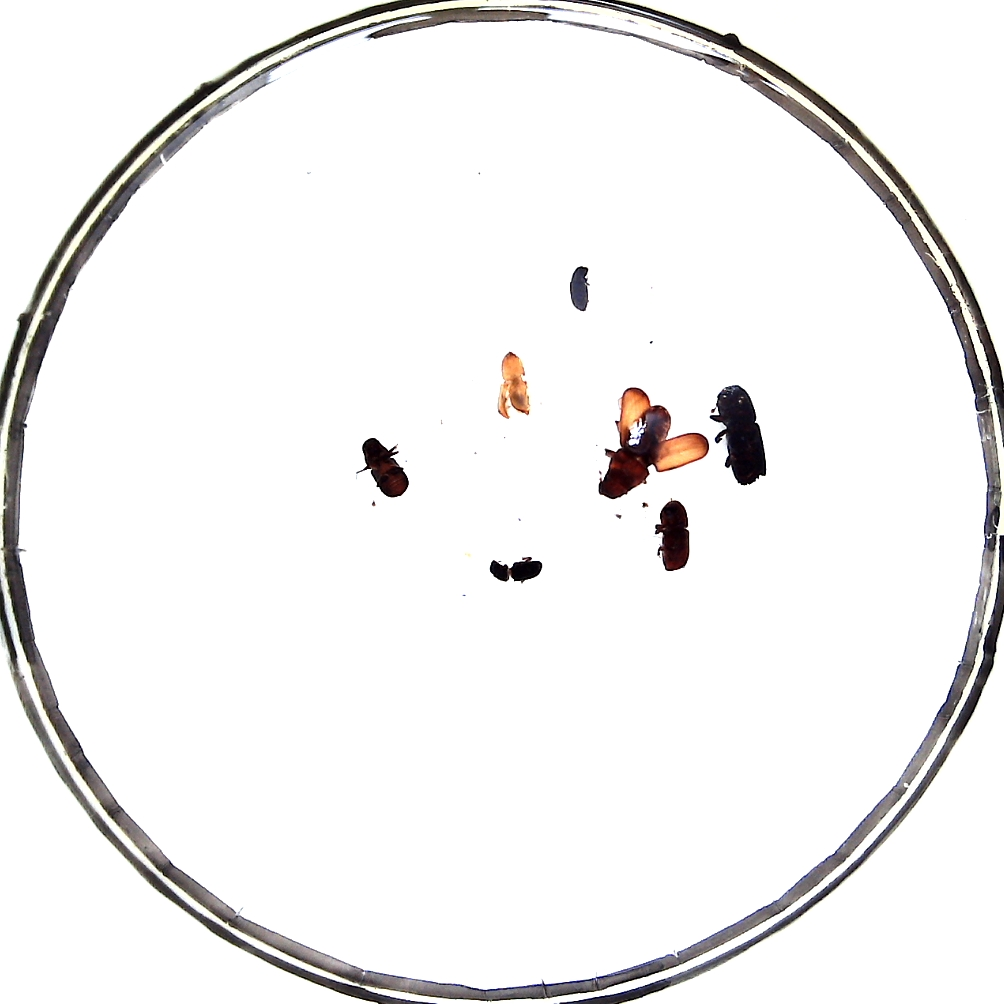Boerner: (717, 385, 767, 486)
Leconte: (599, 404, 672, 499)
acuminatus: (490, 559, 543, 582), (570, 267, 590, 311)
armandi: (362, 438, 408, 498)
coleoptera: (497, 352, 531, 419)
linnaeus: (660, 501, 690, 571)
